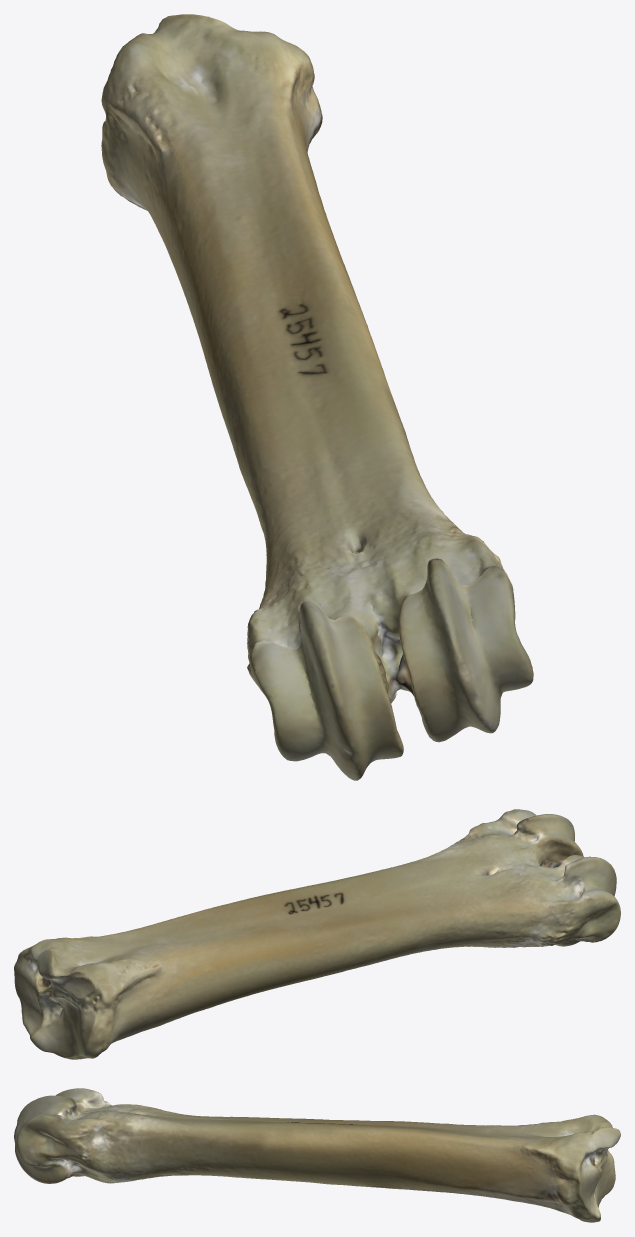
3 renders of one model, top to bottom at view 1: azimuth 30°, elevation 25°; view 2: azimuth 150°, elevation 25°; view 3: azimuth 270°, elevation 25°, orthographic. The views are drawn at different scales.
Visible parts, largest first — view 1: Node; view 2: Node; view 3: Node.
Boxes of the visible parts, box(x1,y1,x2,y2) form: Node: box(101, 14, 533, 780); Node: box(14, 809, 620, 1059); Node: box(14, 1088, 620, 1222).
Bounding box in the file's own units: 58.47 × 28.66 × 113.
1 material, 1 textured.
